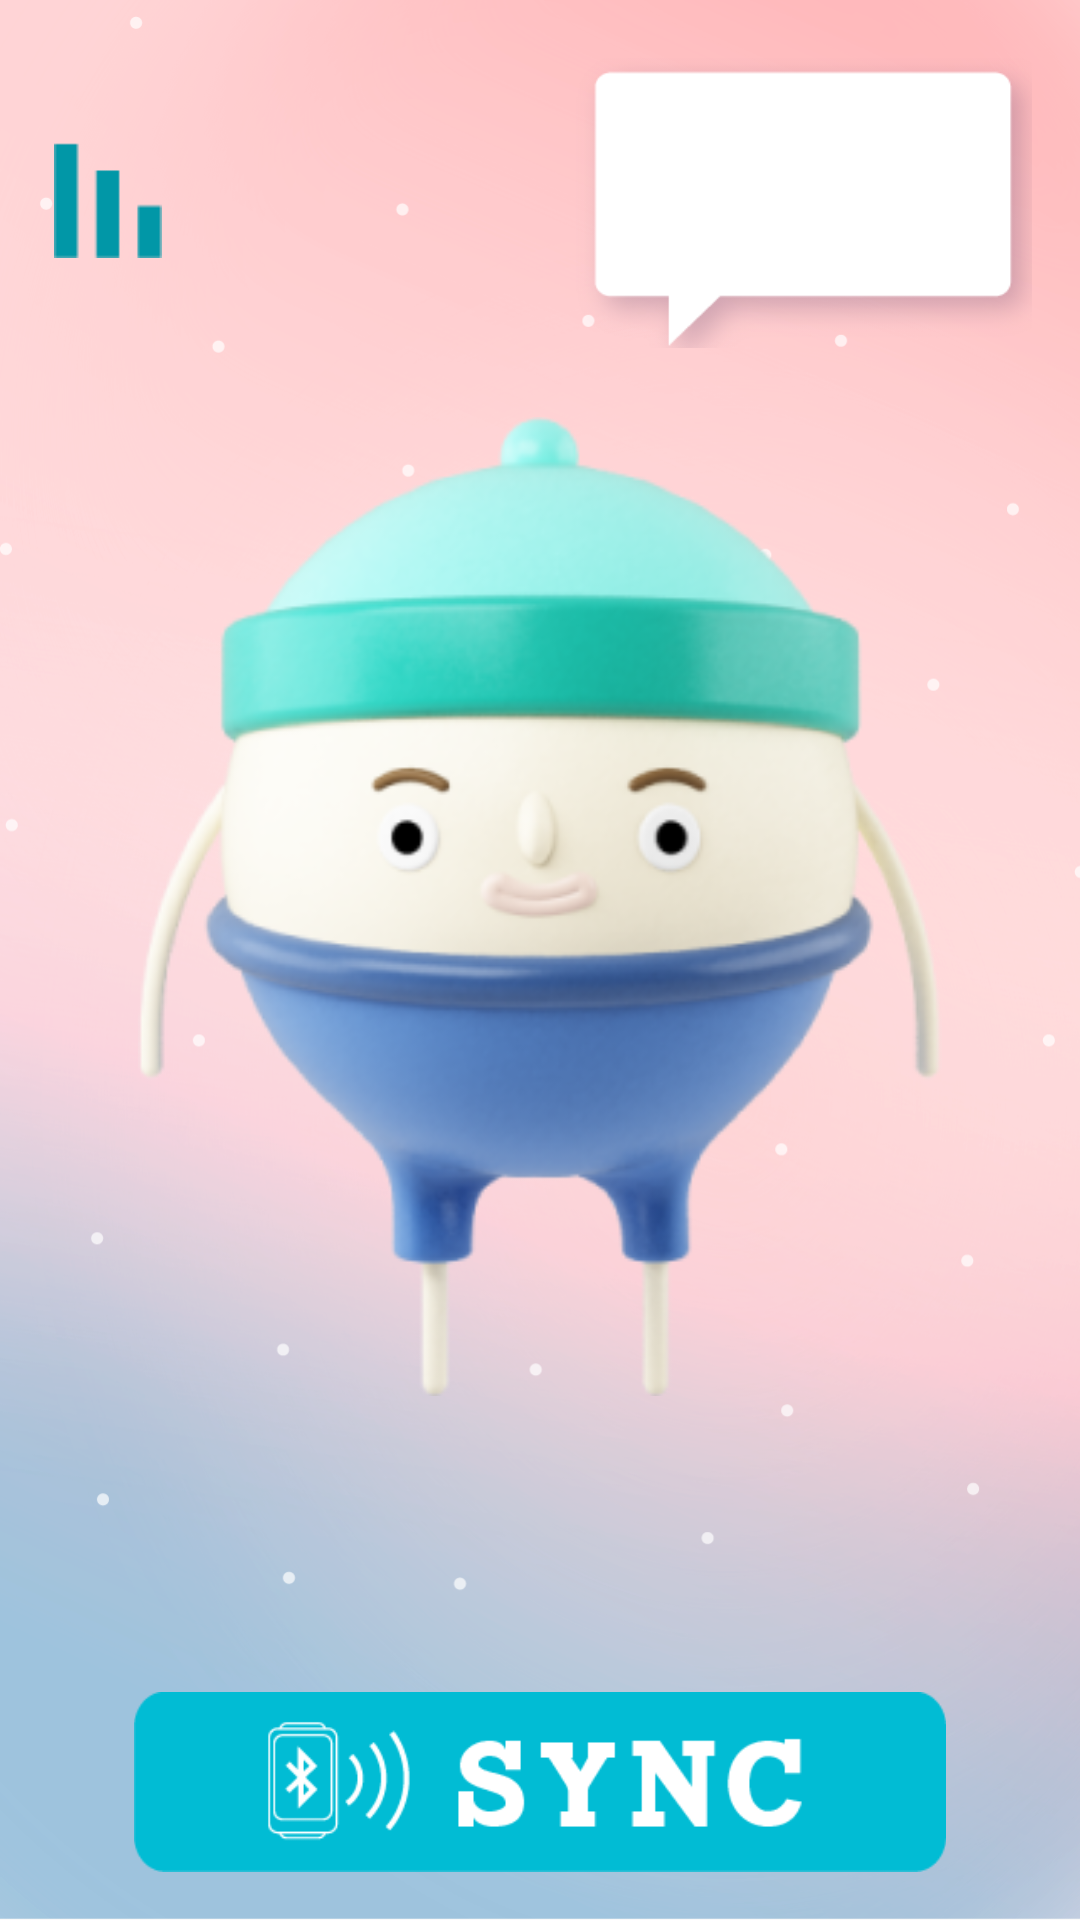

Icons on this 1080px x 1920px Android screen, each with its box as (x1, y1, x2, y2):
chartgraph: (54, 143, 162, 258)
